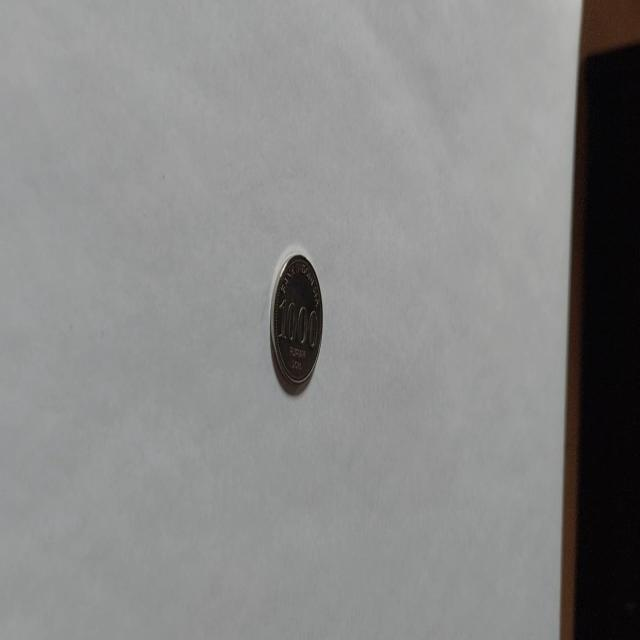seribu rupiah koin: (268, 250, 324, 394)
